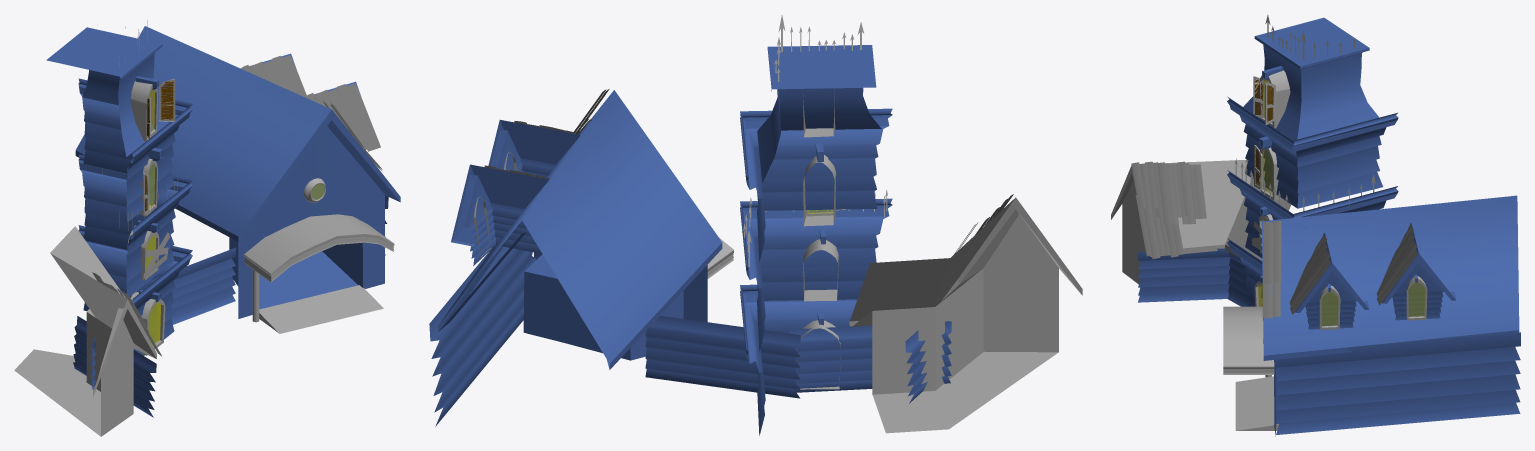
File: house select fbx.fbx
3 renders of one model, left to right at view 1: azimuth 30°, elevation 25°; view 2: azimuth 150°, elevation 25°; view 3: azimuth 270°, elevation 25°, orthographic. The views are drawn at different scales.
Visible parts, largest first — view 1: pCube9, pPlane39, pCube39, pCube43, pCylinder1, pCube59, pPlane17, window_cover1, pCube56, pCube58, pPlane18, pCube61 (+5 smaller); view 2: pPlane39, pCube9, pCube39, pPlane36, pCube64, pCube50, pPlane33, pCube58; view 3: pPlane39, pCube9, pPlane36, pCube39, pCube43, pCube50, pCube64, pCylinder1, pCube59, pPlane33, pCube58, pPlane40 (+8 smaller).
Boxes of the visible parts, x1,y1,x2,y2 form: pCube9: (75, 26, 400, 318); pPlane39: (46, 27, 235, 417); pCube39: (14, 226, 156, 436); pCube43: (244, 214, 394, 282); pCylinder1: (259, 285, 383, 333); pCube59: (130, 81, 157, 141); pPlane17: (346, 83, 380, 151); window_cover1: (158, 79, 175, 121); pCube56: (130, 292, 163, 355); pCube58: (138, 158, 157, 216); pPlane18: (337, 84, 370, 149); pCube61: (144, 299, 165, 355); pPlane39: (645, 45, 951, 435); pCube9: (438, 90, 722, 369); pCube39: (849, 197, 1082, 433); pPlane36: (429, 246, 536, 426); pCube64: (451, 164, 548, 265); pCube50: (488, 120, 579, 177); pPlane33: (743, 15, 887, 267); pCube58: (803, 155, 836, 226); pPlane39: (1138, 17, 1398, 306); pCube9: (1261, 195, 1519, 436); pPlane36: (1276, 332, 1520, 434); pCube39: (1111, 160, 1291, 284); pCube43: (1223, 306, 1274, 374); pCube50: (1295, 233, 1369, 329); pCube64: (1382, 226, 1456, 320); pCylinder1: (1235, 376, 1278, 430); pCube59: (1259, 70, 1290, 128); pPlane33: (1234, 14, 1375, 211); pCube58: (1259, 147, 1282, 200); pPlane40: (1273, 221, 1281, 282).
Size of the model in its own units: 0.1681 by 0.1337 by 0.1598.
